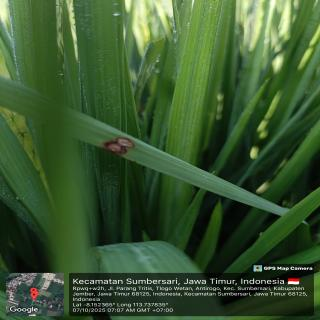Blast: (100, 133, 140, 160)
